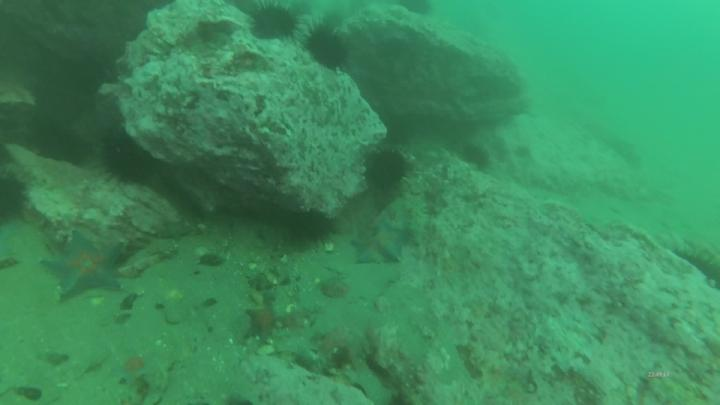echinus: (98, 130, 154, 183), (303, 22, 350, 73), (673, 247, 720, 294), (250, 1, 299, 45), (364, 147, 412, 191), (287, 210, 338, 249), (36, 129, 87, 166), (1, 174, 33, 231), (460, 143, 494, 175), (397, 1, 437, 21)
starfish: (40, 228, 130, 308), (347, 213, 412, 271), (240, 300, 285, 347), (112, 350, 161, 390)
